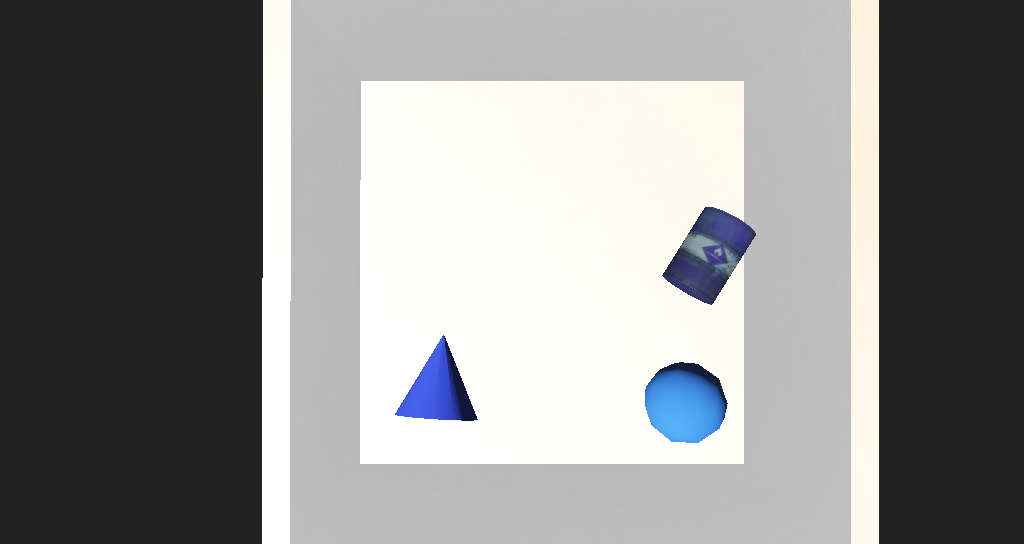cone: (586, 229, 667, 286)
cylinder: (381, 298, 455, 360)
sphere: (573, 315, 640, 363)
